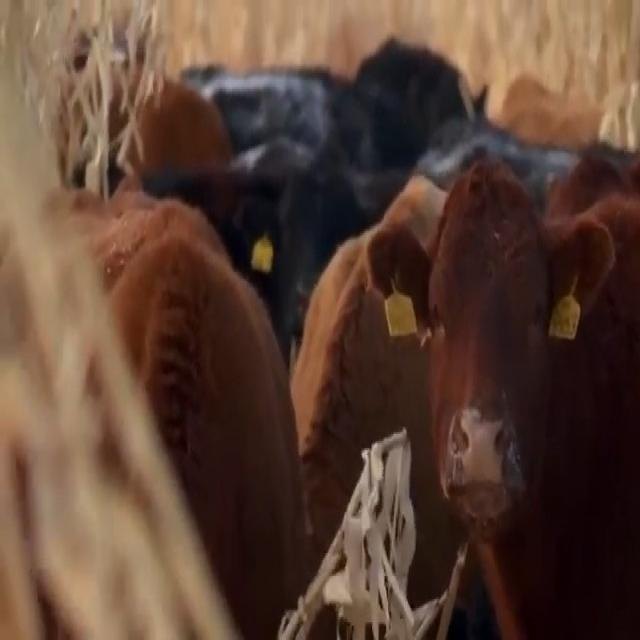cow: (369, 151, 640, 637)
